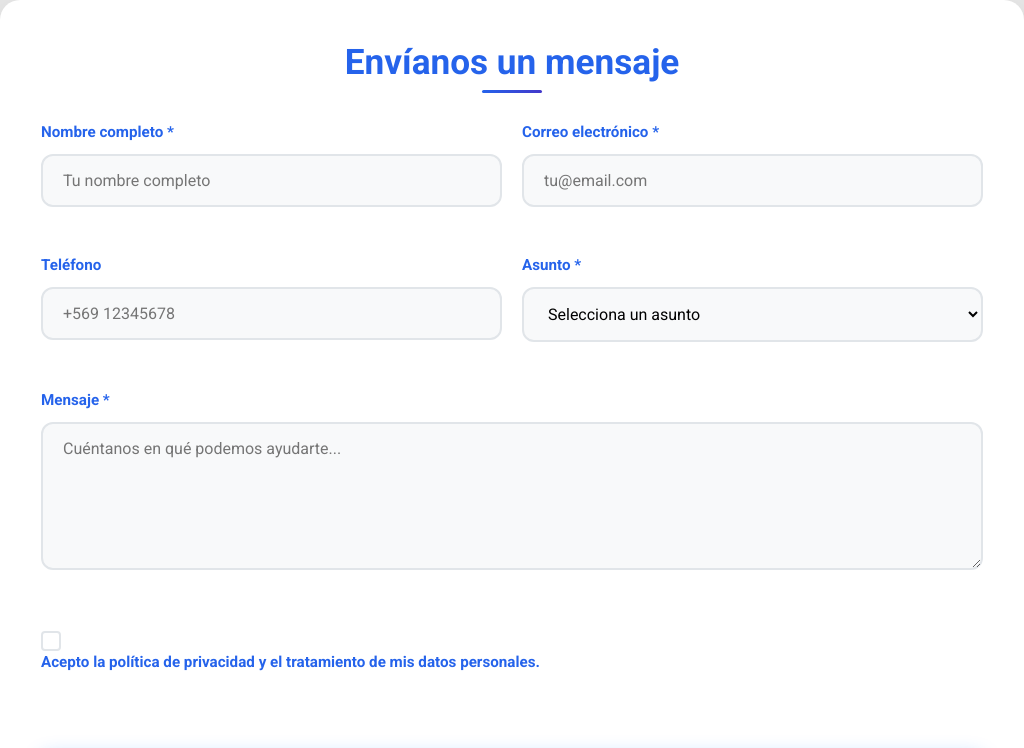
<ContactForm /> › debe validar formato de email incorrecto
Type "correo-malo" into the field with placeholder "tu@email.com" at (752, 180), box [522,154,983,207]
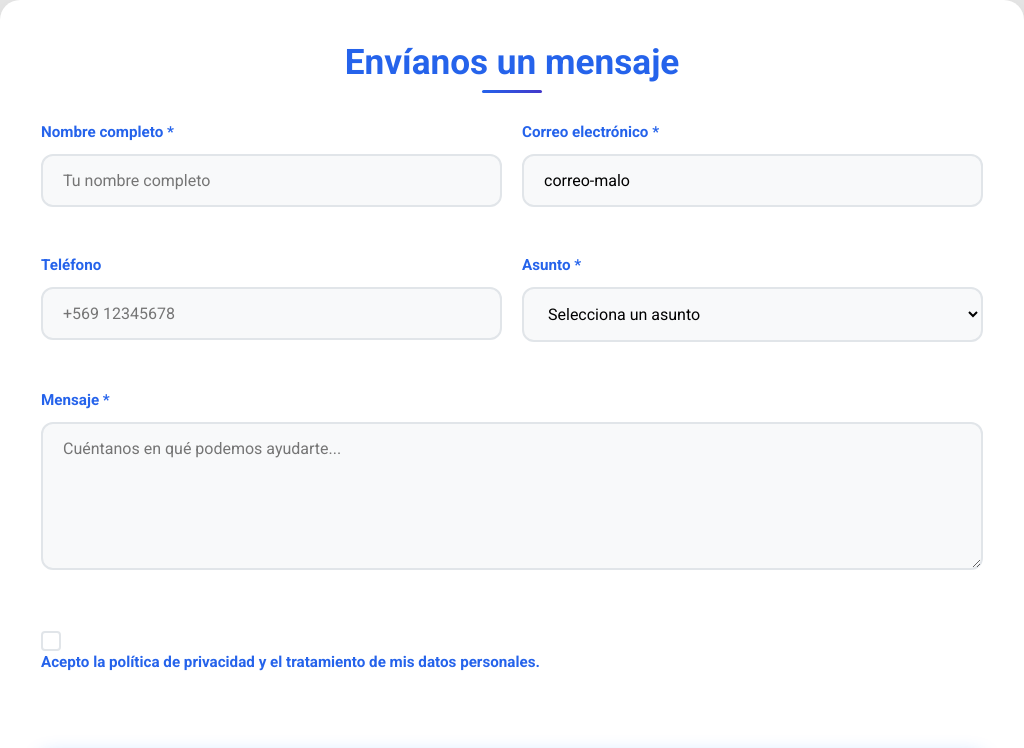
Leave the field with placeholder "tu@email.com", box [522,154,983,207]
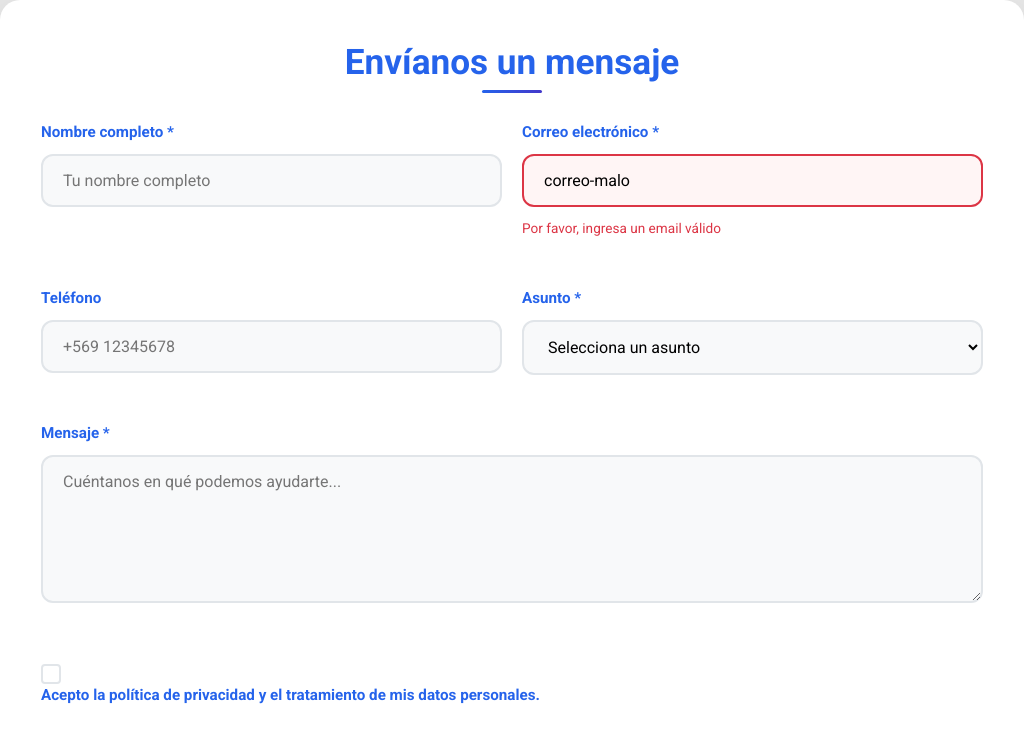
Result: the text "Por favor, ingresa un email válido" is shown at [522,220,721,236]
